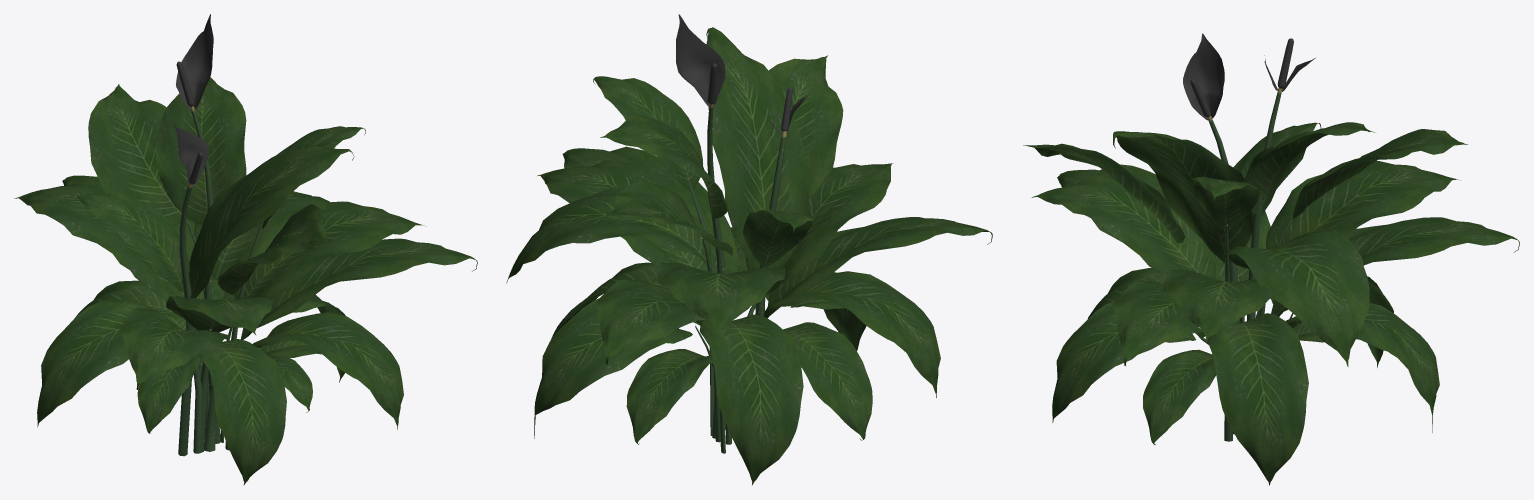
Rendered from SM_peaceLily.FBX.
The picture shows the model from 3 angles, left to right: view 1: azimuth 30°, elevation 25°; view 2: azimuth 150°, elevation 25°; view 3: azimuth 270°, elevation 25°; orthographic projection. The views are drawn at different scales.
Visible parts, largest first — view 1: SM_peaceLily; view 2: SM_peaceLily; view 3: SM_peaceLily.
Part boxes in pixels (<box>): SM_peaceLily: <box>14,14,477,485</box>; SM_peaceLily: <box>506,14,992,485</box>; SM_peaceLily: <box>1023,33,1519,485</box>.
Size of the model in its own units: 48.87 by 50.54 by 48.36.
